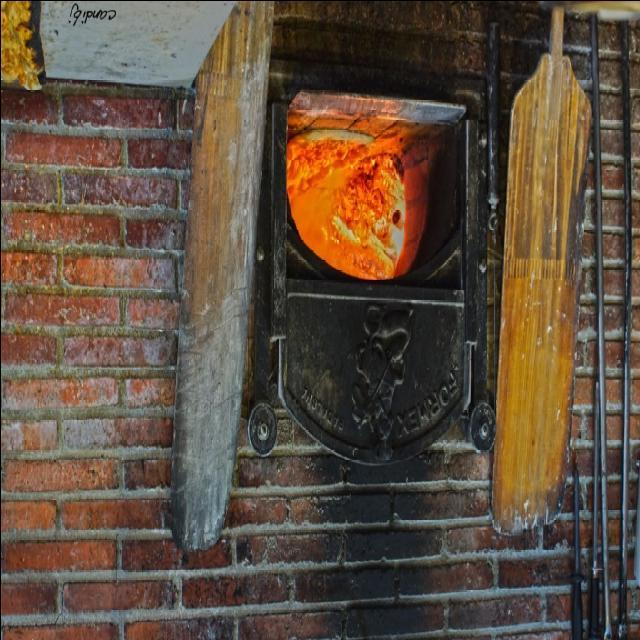Fire: (283, 118, 417, 279)
